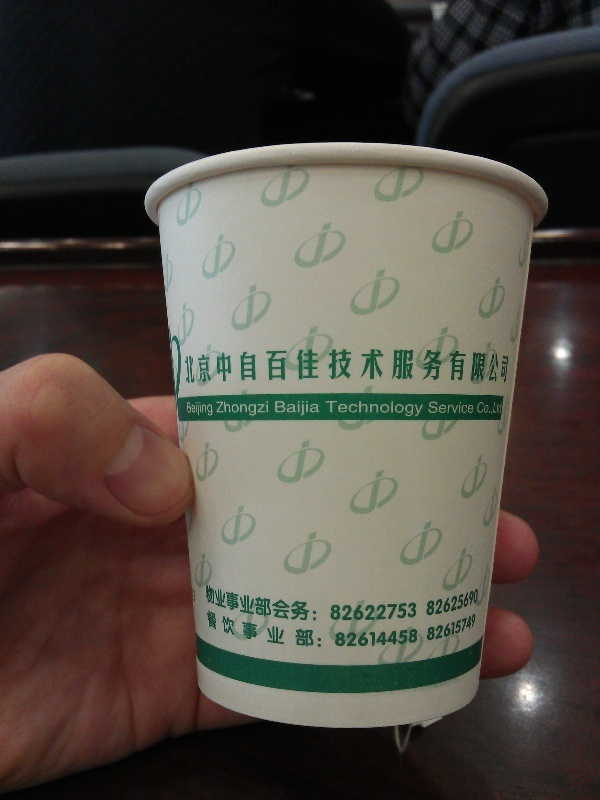text: (209, 609, 224, 659), (225, 609, 240, 659), (241, 609, 256, 659), (257, 609, 272, 659), (273, 609, 288, 659), (289, 609, 304, 659), (305, 609, 320, 659), (321, 609, 336, 659), (337, 609, 352, 659), (353, 609, 368, 659), (369, 609, 384, 659), (385, 609, 400, 659), (401, 609, 416, 659), (209, 584, 224, 632), (225, 584, 240, 632), (241, 584, 256, 632), (257, 584, 272, 632), (273, 584, 288, 632), (289, 584, 304, 632), (305, 584, 320, 632), (321, 584, 336, 632), (337, 584, 352, 632), (353, 584, 368, 632), (369, 584, 384, 632), (385, 584, 400, 632), (401, 584, 416, 632), (193, 348, 208, 385), (209, 348, 224, 385), (225, 348, 240, 385), (241, 348, 256, 385), (257, 348, 272, 385), (273, 348, 288, 385), (289, 348, 304, 385), (305, 348, 320, 385), (321, 348, 336, 385), (337, 348, 352, 385), (353, 348, 368, 385), (369, 348, 384, 385), (385, 348, 400, 385), (401, 348, 416, 385), (417, 348, 432, 385), (433, 348, 448, 385), (449, 348, 464, 385), (465, 348, 480, 385), (481, 348, 496, 385), (497, 348, 510, 385), (433, 588, 448, 620), (449, 588, 464, 620), (433, 612, 448, 643), (449, 612, 464, 643), (465, 588, 479, 620), (465, 612, 477, 643), (184, 348, 192, 385), (193, 401, 208, 418), (337, 401, 352, 418), (353, 401, 368, 418), (369, 401, 384, 418), (385, 401, 400, 418), (401, 401, 416, 418), (305, 401, 321, 416), (225, 401, 240, 416), (241, 401, 256, 416), (289, 401, 304, 416), (193, 589, 208, 603), (274, 401, 288, 416), (257, 401, 270, 416), (433, 401, 448, 414), (449, 401, 464, 414), (481, 402, 496, 415), (204, 584, 208, 632), (426, 588, 432, 620), (326, 401, 336, 418), (427, 612, 432, 643), (417, 609, 420, 659), (216, 401, 224, 416), (417, 401, 424, 418), (465, 401, 474, 414), (206, 609, 208, 659), (187, 401, 192, 418), (209, 401, 214, 418), (427, 401, 432, 414), (497, 402, 502, 415), (417, 584, 418, 632), (477, 402, 480, 415)
